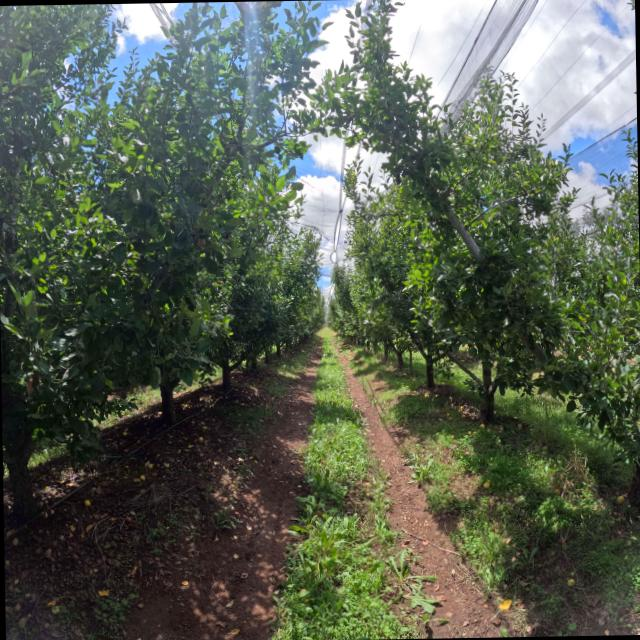-FireBlight-: (194, 236, 208, 247)
